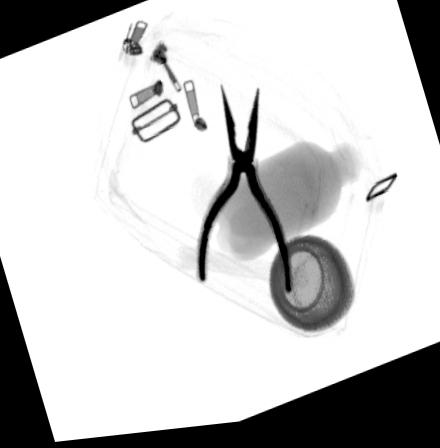Pliers: (195, 85, 292, 301)
